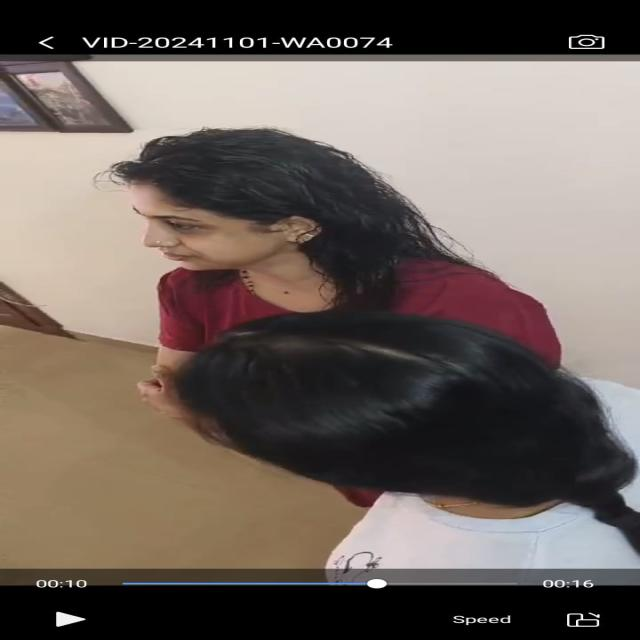humans: (169, 316, 640, 568), (102, 124, 501, 310)
